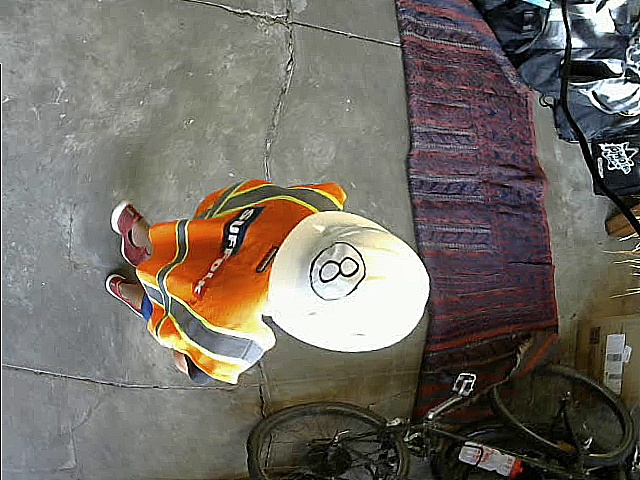eight: (306, 242, 365, 306)
